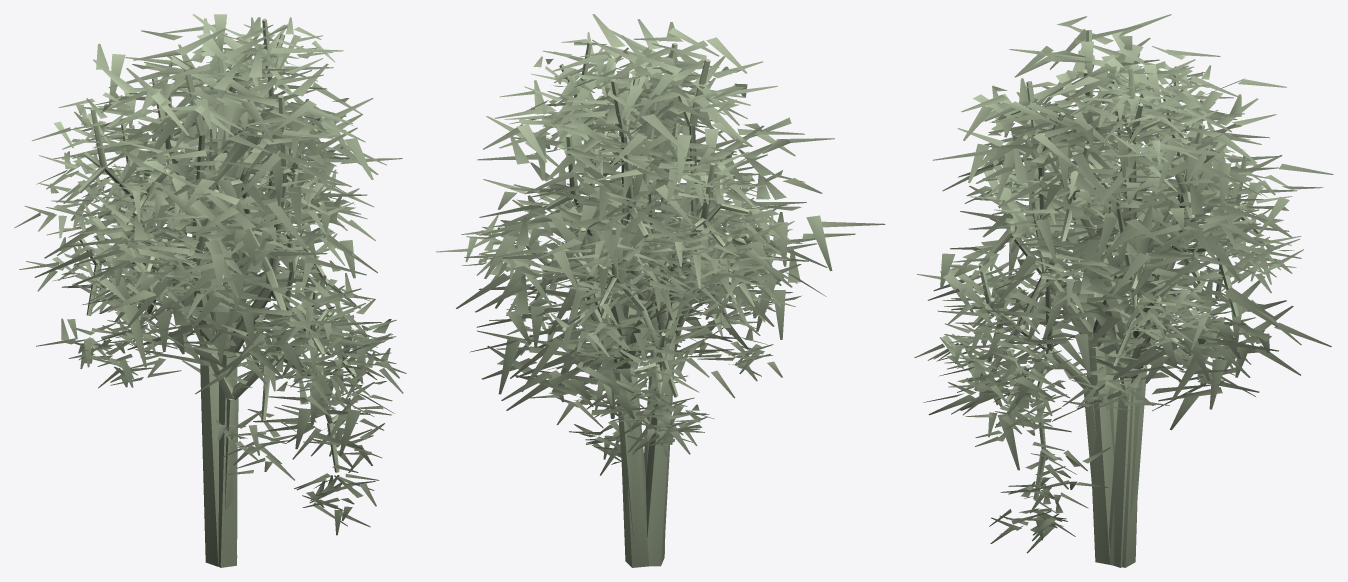
File: tree_willow_peach.glb
3 views of the same model, side by side, from view 1: azimuth 30°, elevation 25°; view 2: azimuth 150°, elevation 25°; view 3: azimuth 270°, elevation 25° (orthographic).
Parts seen in each view (by area): view 1: tier1_foliage, tier2_foliage, tier0_foliage, tier1_bark, tier2_bark, tier0_bark; view 2: tier1_foliage, tier2_foliage, tier0_foliage, tier1_bark, tier2_bark, tier0_bark; view 3: tier1_foliage, tier2_foliage, tier0_foliage, tier1_bark, tier2_bark, tier0_bark.
Boxes of the visible parts, x1=… form: tier1_foliage: x1=34, y1=14, x2=402, y2=455; tier2_foliage: x1=14, y1=17, x2=406, y2=535; tier0_foliage: x1=65, y1=14, x2=356, y2=367; tier1_bark: x1=128, y1=42, x2=333, y2=567; tier2_bark: x1=78, y1=18, x2=359, y2=511; tier0_bark: x1=161, y1=78, x2=248, y2=566; tier1_foliage: x1=477, y1=19, x2=827, y2=418; tier2_foliage: x1=436, y1=32, x2=802, y2=475; tier0_foliage: x1=456, y1=14, x2=885, y2=413; tier1_bark: x1=546, y1=43, x2=762, y2=567; tier2_bark: x1=497, y1=41, x2=752, y2=545; tier0_bark: x1=562, y1=91, x2=748, y2=566; tier1_foliage: x1=923, y1=14, x2=1333, y2=470; tier2_foliage: x1=914, y1=46, x2=1303, y2=553; tier0_foliage: x1=960, y1=36, x2=1301, y2=430; tier1_bark: x1=978, y1=30, x2=1240, y2=567; tier2_bark: x1=971, y1=66, x2=1259, y2=517; tier0_bark: x1=1051, y1=79, x2=1179, y2=567.
Size of the model in its own units: 0.6885 by 1 by 0.7378.
